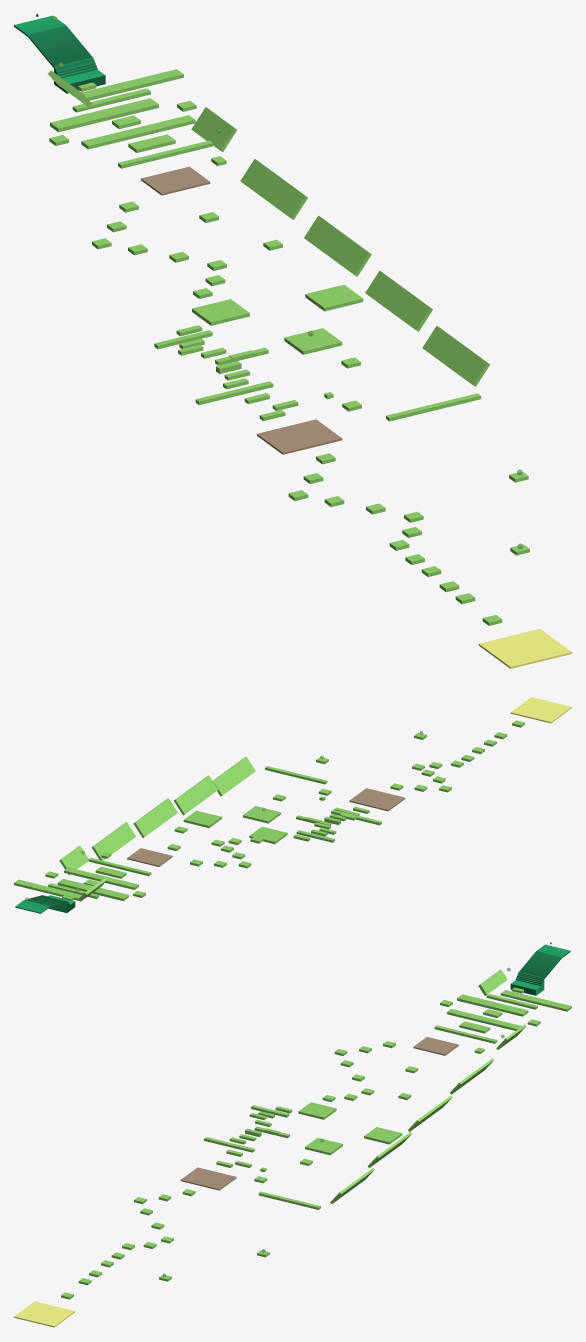
The model's file is level1.glb.
3 renders of one model, top to bottom at view 1: azimuth 30°, elevation 25°; view 2: azimuth 150°, elevation 25°; view 3: azimuth 330°, elevation 25°, orthographic. The views are drawn at different scales.
Visible parts, largest first — view 1: Platform.018 (×11), Ramp.001, Checkpoint.003 (×2), End.002; view 2: Platform.018 (×13), Checkpoint.003 (×2), End.002, Ramp.001; view 3: Platform.018 (×3), Ramp.001, End.002, Checkpoint.003.
Part boxes in pixels (<box>): Platform.018 (×11): <box>50,69,489,386</box>; Ramp.001: <box>14,15,105,93</box>; Checkpoint.003 (×2): <box>141,166,342,452</box>; End.002: <box>479,629,571,667</box>; Platform.018 (×13): <box>14,756,327,900</box>; Checkpoint.003 (×2): <box>127,788,404,865</box>; End.002: <box>511,697,571,722</box>; Ramp.001: <box>15,895,75,913</box>; Platform.018 (×3): <box>447,990,571,1030</box>; Ramp.001: <box>510,944,570,995</box>; End.002: <box>14,1301,74,1326</box>; Checkpoint.003: <box>181,1167,236,1189</box>.
Bounding box in the file's own units: 162 × 79.34 × 668.
Materials: 7 (7 with a texture image).
